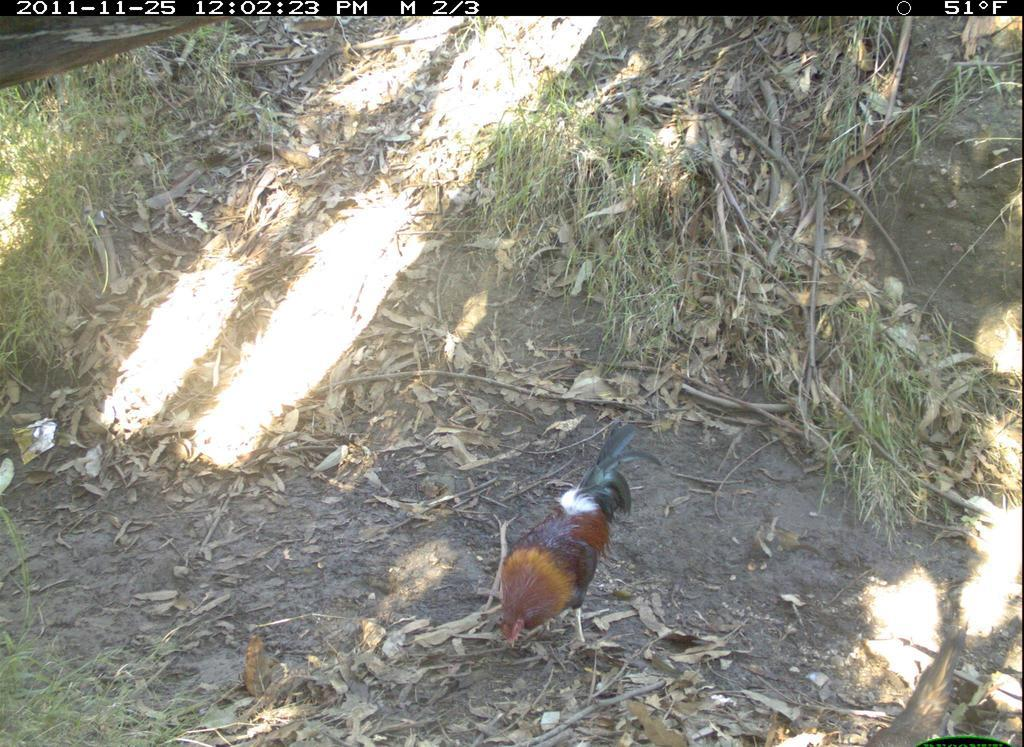bird: (492, 414, 671, 658)
